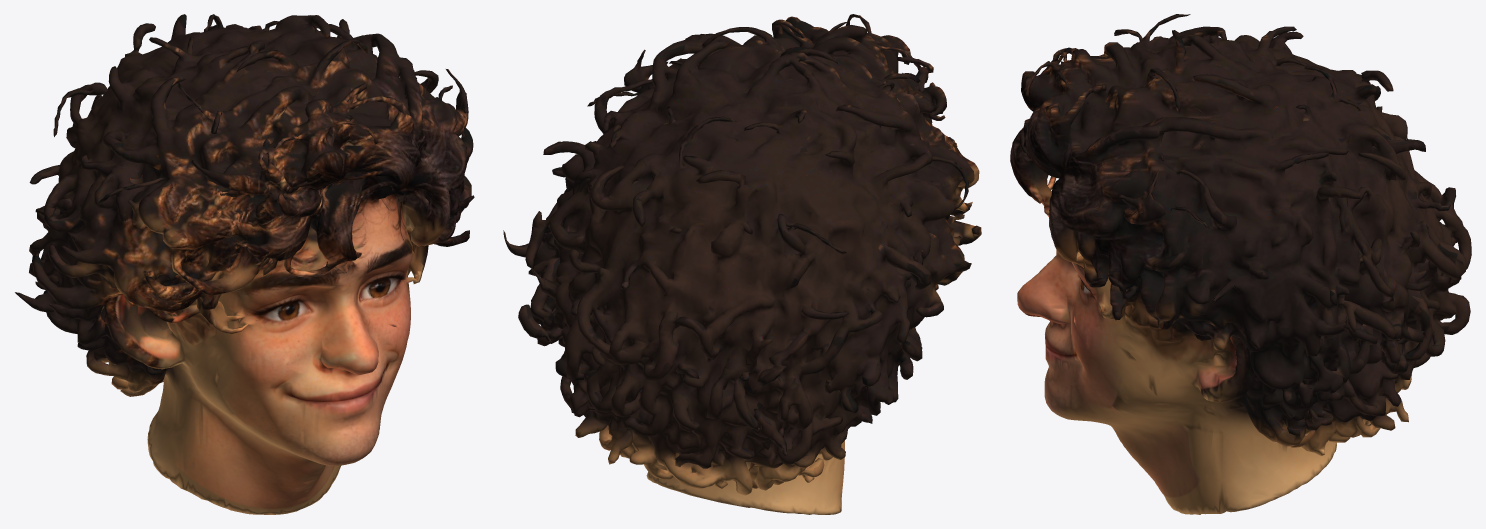
Rendered from head-final.glb.
3 views of the same model, side by side, from view 1: azimuth 30°, elevation 25°; view 2: azimuth 150°, elevation 25°; view 3: azimuth 270°, elevation 25° (orthographic). The views are drawn at different scales.
Visible parts, largest first — view 1: PortraitHead_Final; view 2: PortraitHead_Final; view 3: PortraitHead_Final.
Boxes of the visible parts, left/top/right/bottom form: PortraitHead_Final: left=15, top=14, right=474, bottom=514; PortraitHead_Final: left=503, top=14, right=981, bottom=514; PortraitHead_Final: left=1010, top=14, right=1471, bottom=514.
Bounding box in the file's own units: 1.8 × 1.96 × 1.82.
1 material, 1 textured.
